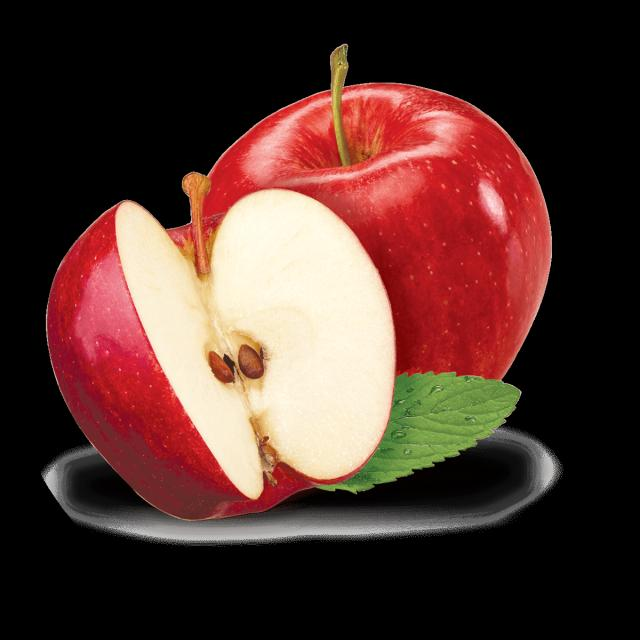manzana: (195, 35, 564, 465), (38, 166, 406, 525)
